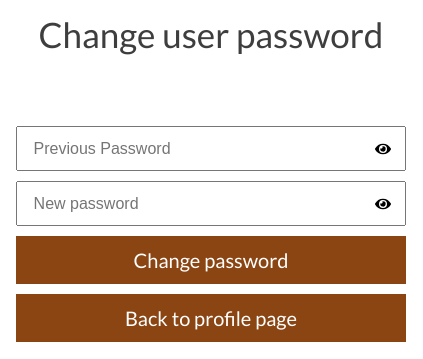
it: ChangePassword Component › shows success message and closes on successful password change
The image size is (423, 359).
Type "OldPassword123" into the password field with placeholder "Previous Password" at (211, 149), box [16,126,406,171]
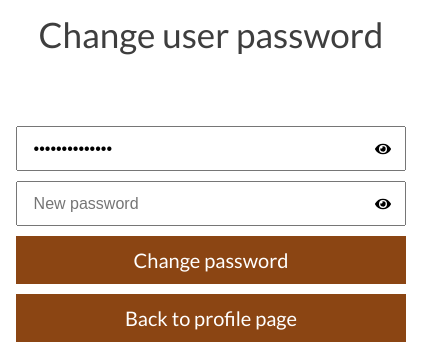
Type "NewPassword123" into the password field with placeholder "New password" at (211, 204), box [16,181,406,226]
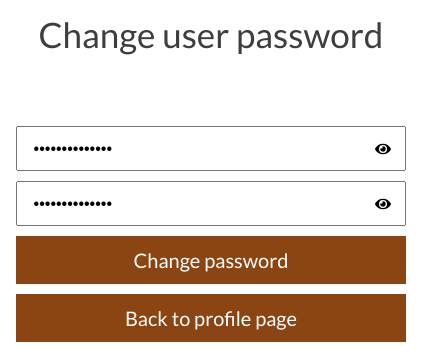
Click the button "Change password" at (211, 260), box [16,236,406,284]
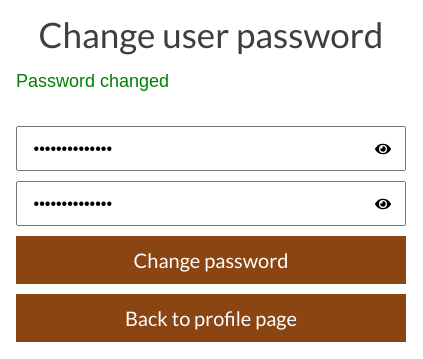
Result: the text "Password changed" is shown at [16,71,169,91]
